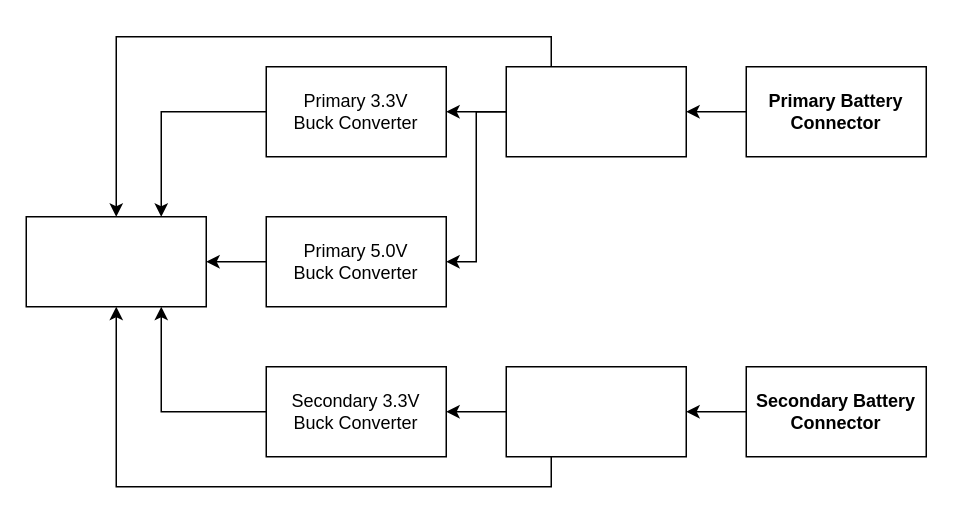
Some shapes in this 953 by 525 pixel diagram are drawn without their labels. Here are the shapes that lost their labels. From the top down, the centre of each, then its label:
At point (595, 111): "Primary Screw Switch Connector".
At point (115, 261): "Stack Edge Connector".
At point (595, 411): "Secondary Screw Switch Connector".
